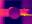Hotspot: (22, 13, 28, 16)
